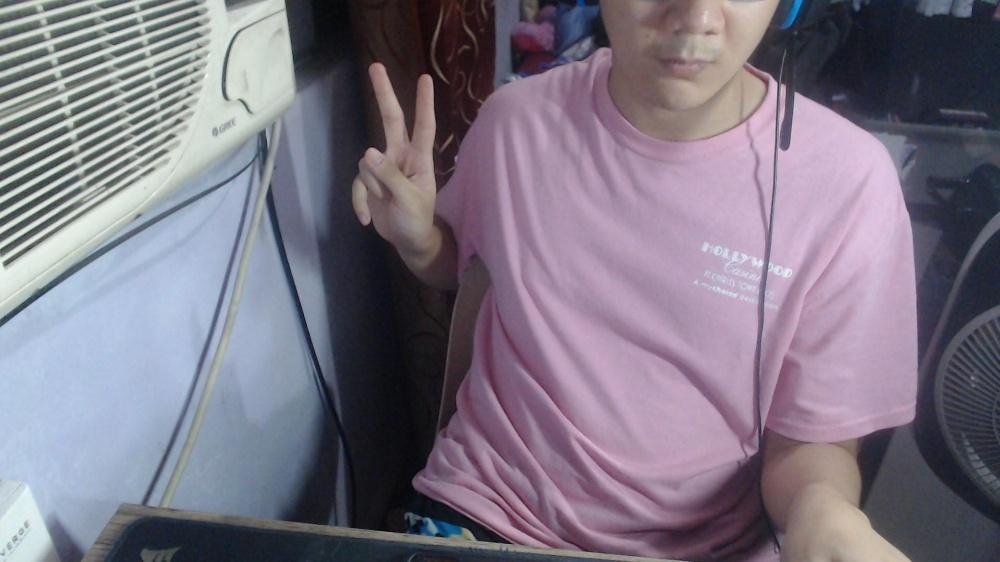v: (349, 58, 440, 252)
